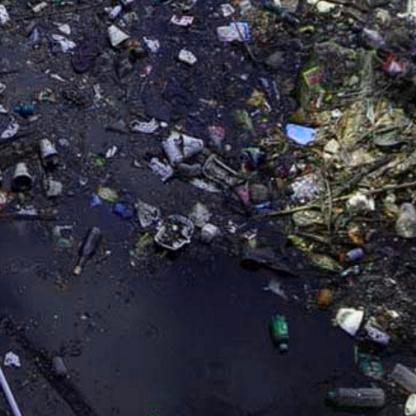Metal: (33, 137, 61, 169), (158, 138, 184, 166), (106, 23, 131, 52), (9, 162, 31, 191)
Plastic: (319, 385, 384, 409), (270, 309, 293, 356), (395, 198, 416, 242), (390, 361, 416, 391)
Trash: (154, 211, 194, 253), (214, 18, 254, 46)
